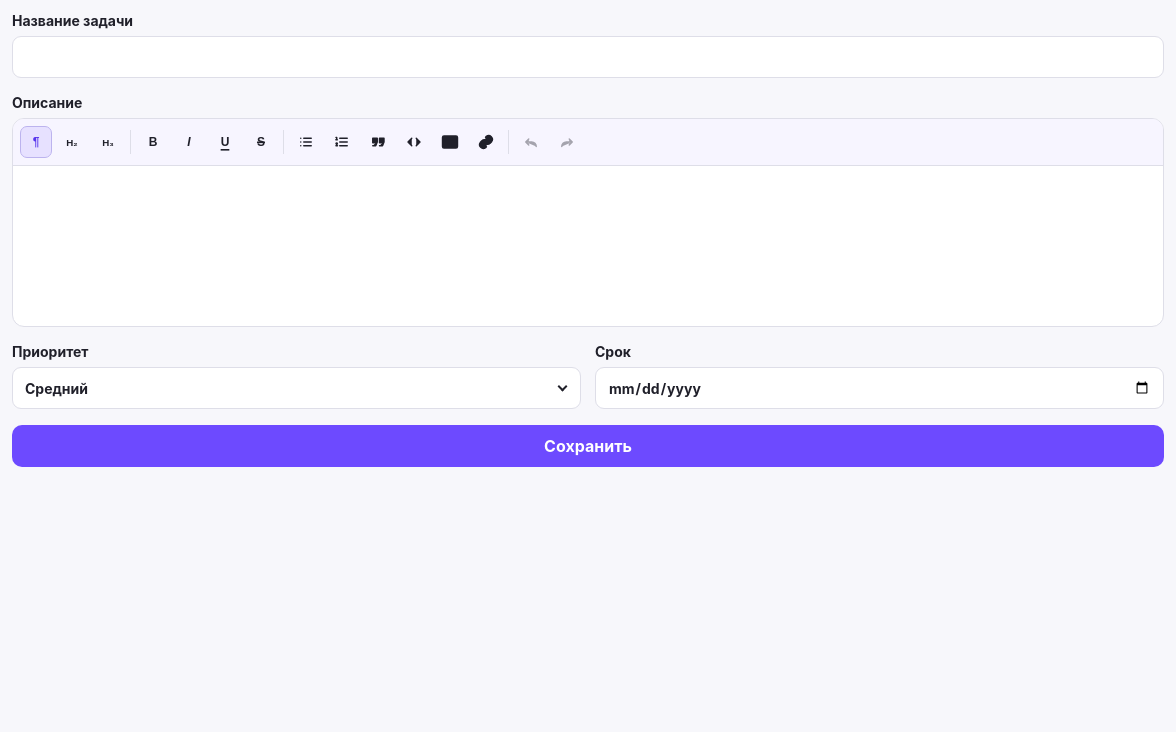
Test case: TaskForm › shows an error and keeps the task unsaved when title is empty
Click the button "Сохранить": (588, 446) [12,425,1164,467]
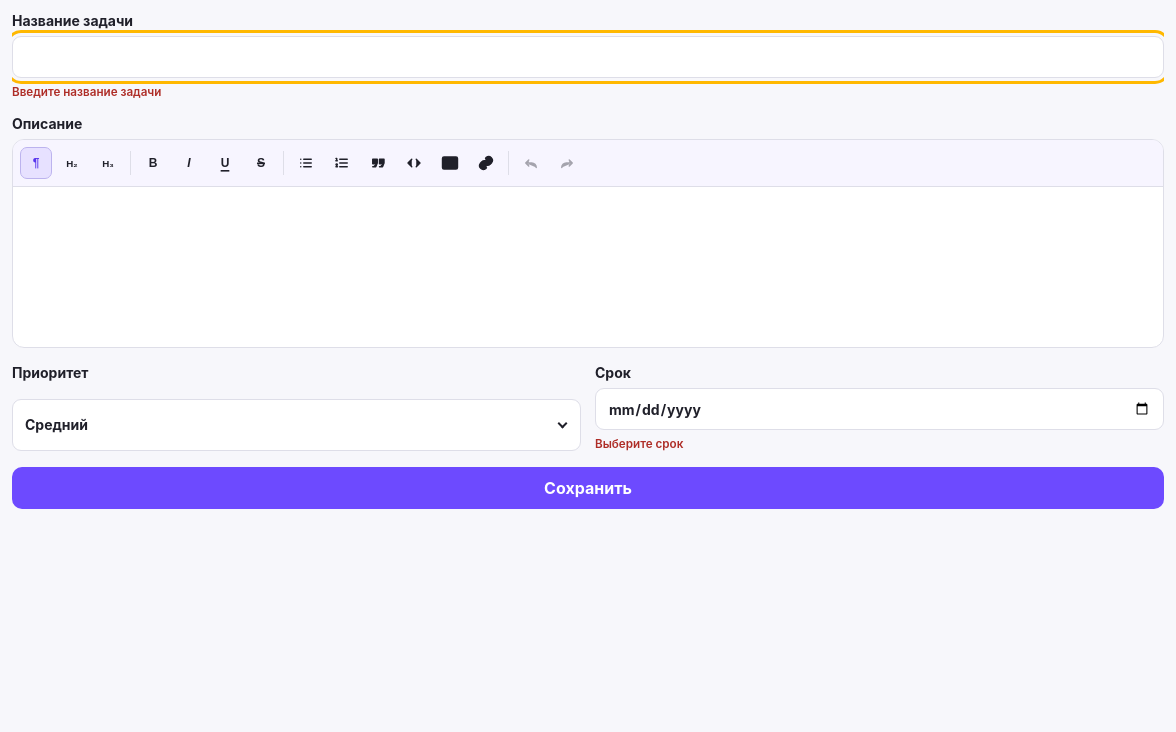
Expected: the text "Введите название задачи" is shown, [12,85,161,99]
